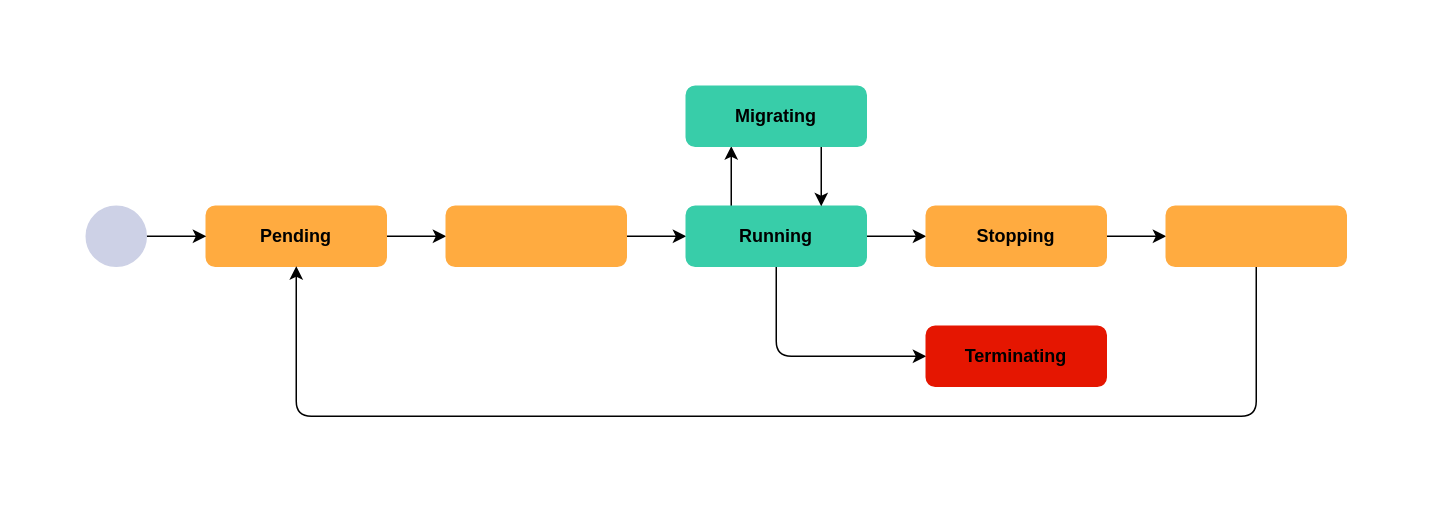
Some shapes in this 1431 by 531 pixel diagram are drawn without their labels. The shapes that lost their labels are listed below. From the top down, each one's centre as x and y in pixels, then its label:
pixel 535 235: Starting
pixel 1255 235: Stopped
